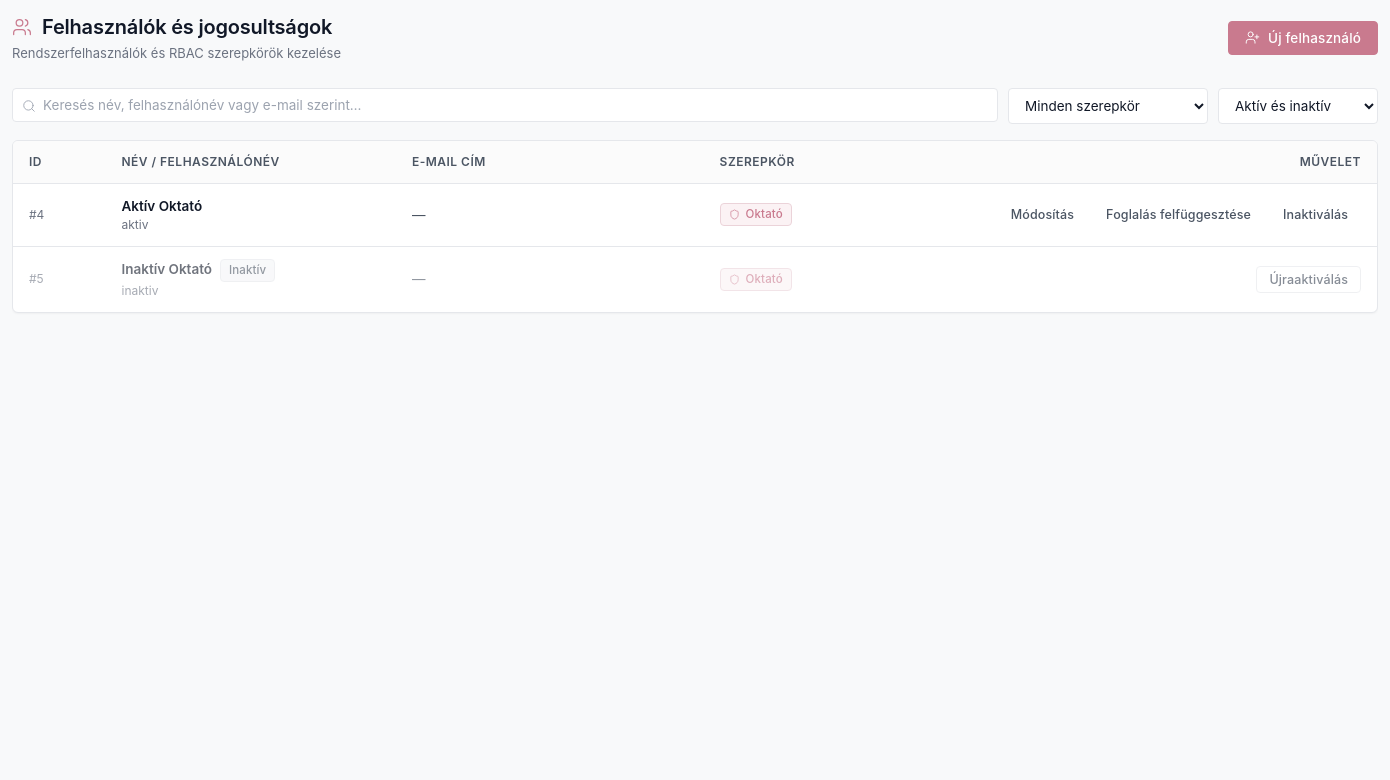
Test: UsersPage › edits the name and e-mail address of a user
Click the button "Módosítás" at (1042, 215), box [998, 201, 1087, 228]
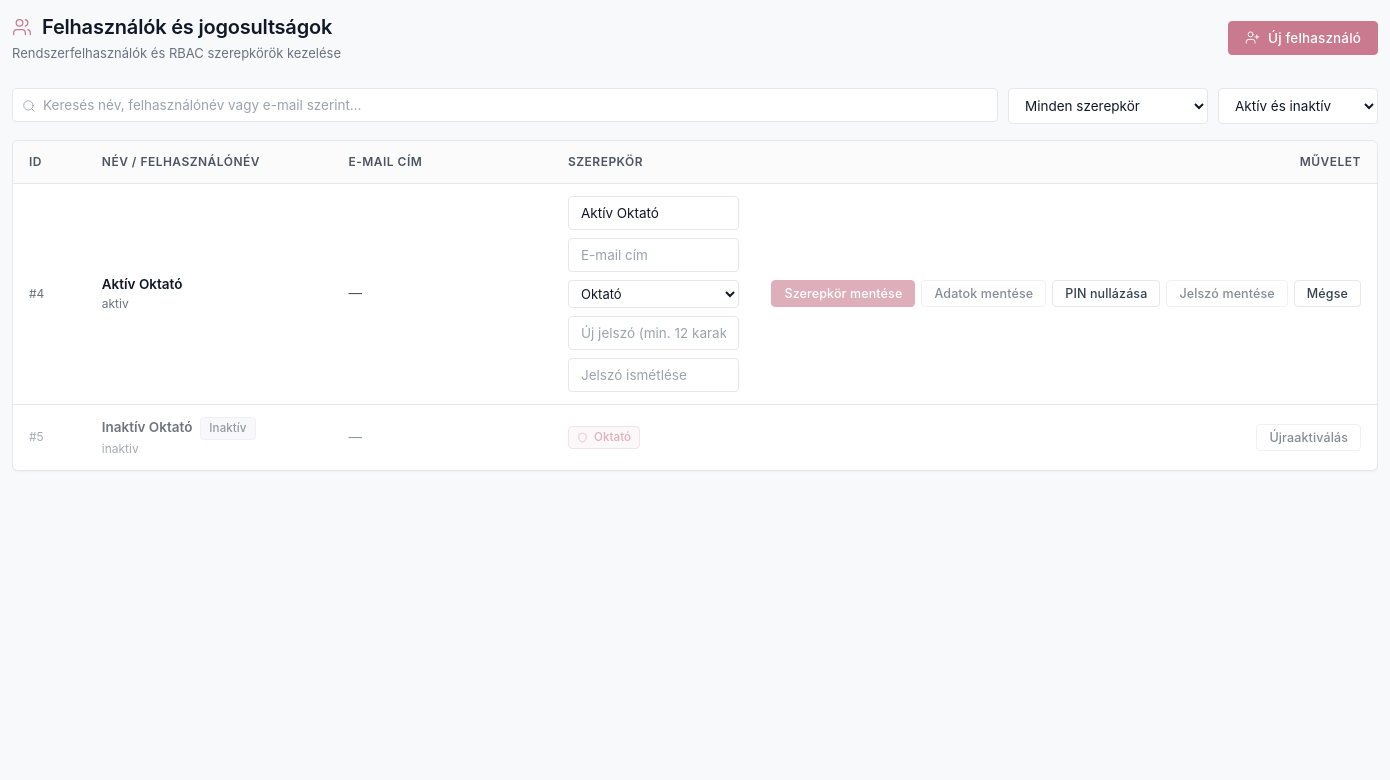
Replace the text in the field named "Aktív Oktató neve" with "Új Név" at (654, 212), box [568, 196, 739, 230]
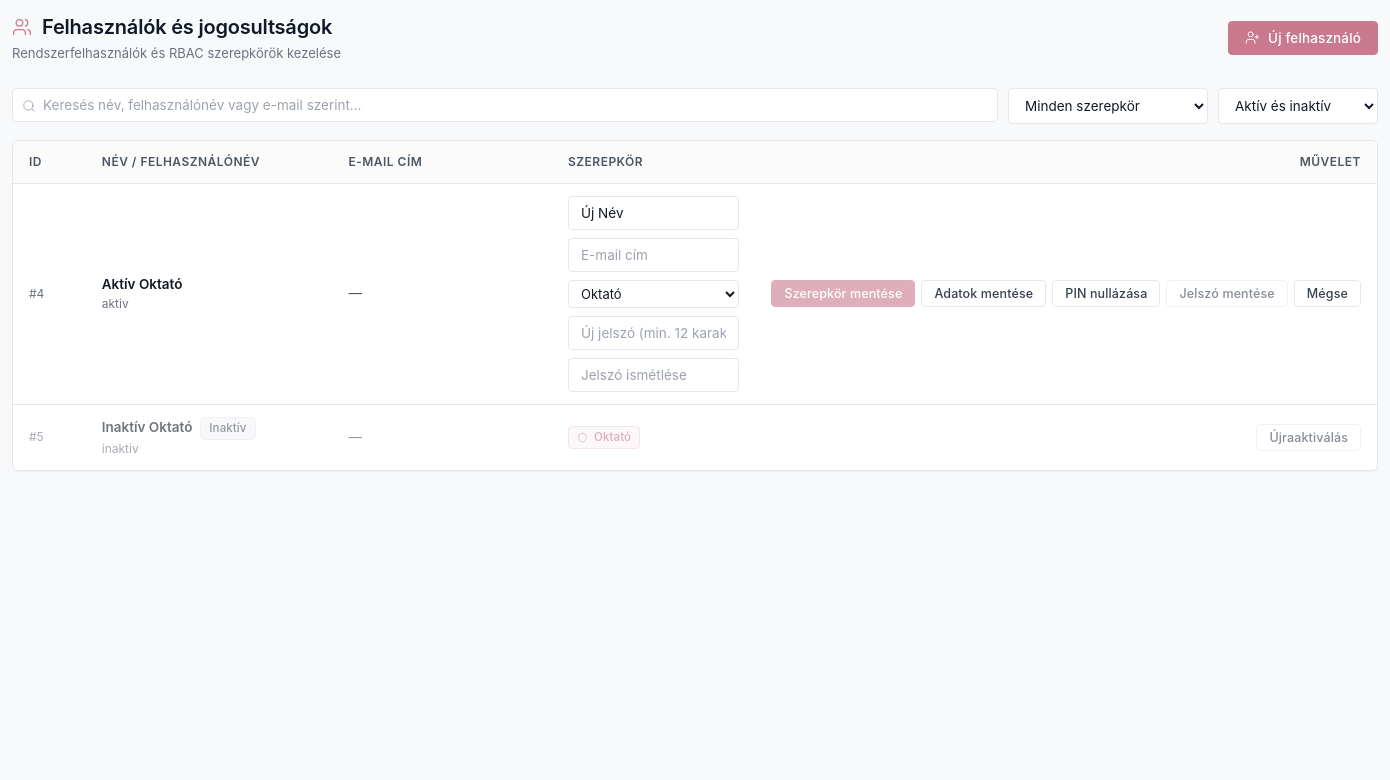
Type "uj@iskola.hu" into the field named "Aktív Oktató e-mail címe" at (654, 254), box [568, 238, 739, 272]
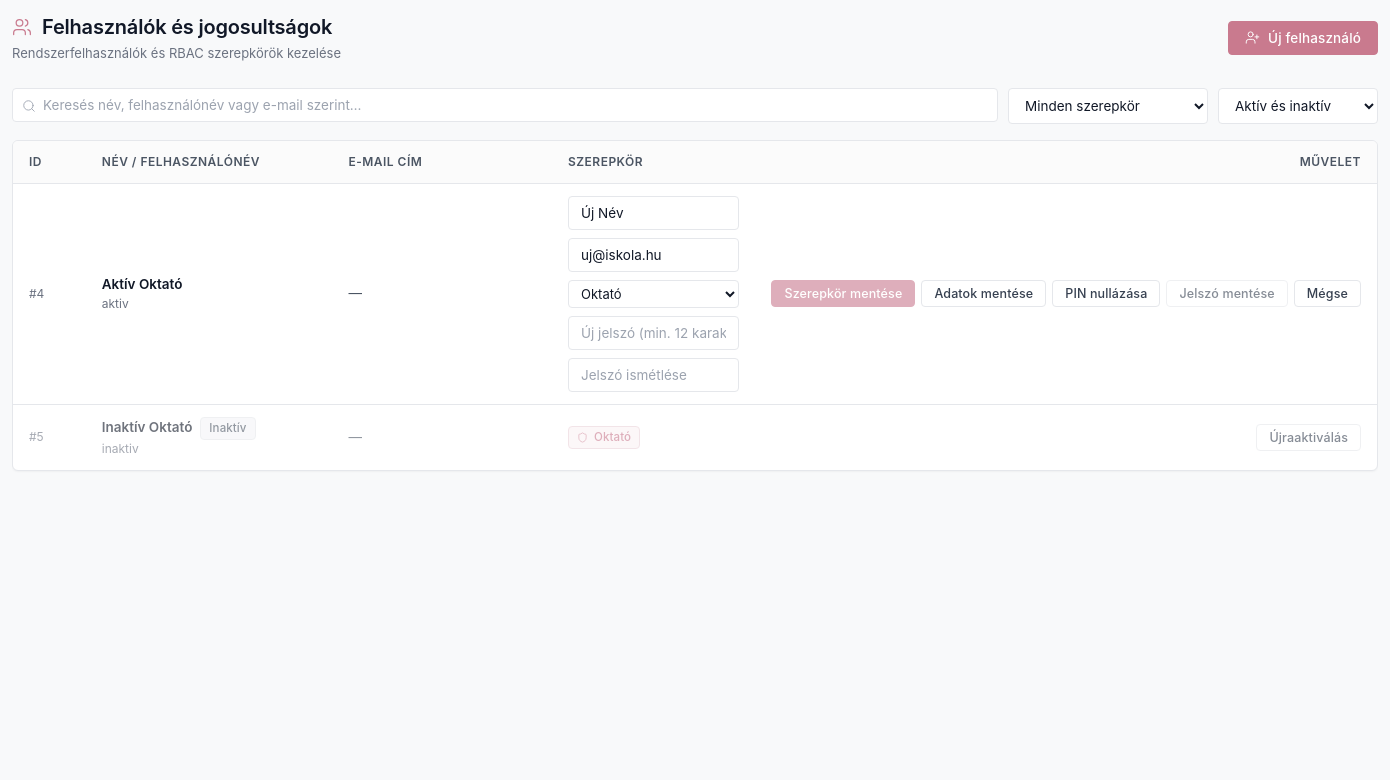
Click the button "Adatok mentése" at (984, 294), box [921, 280, 1046, 307]
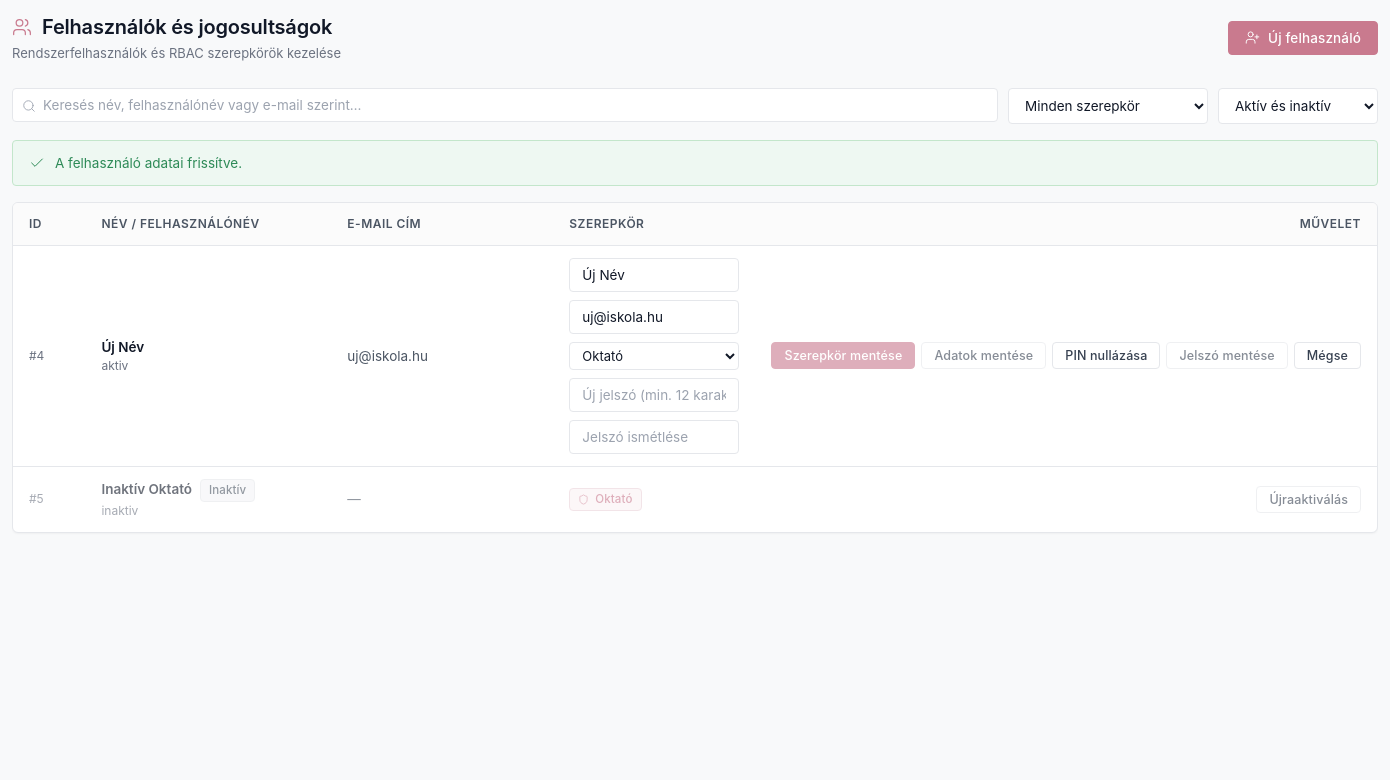
expect the text "A felhasználó adatai frissítve." is shown: met, box [55, 152, 242, 173]
